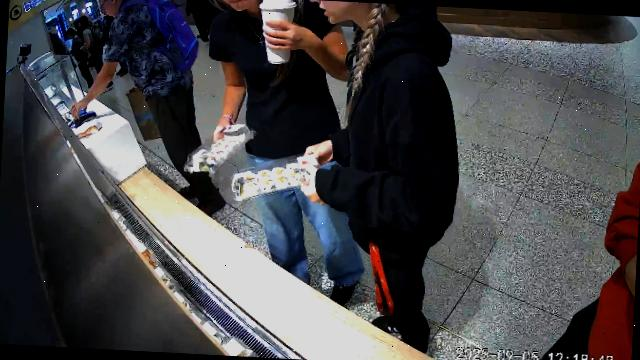sushi-box: (231, 150, 330, 201), (184, 124, 257, 172), (75, 120, 104, 139)
